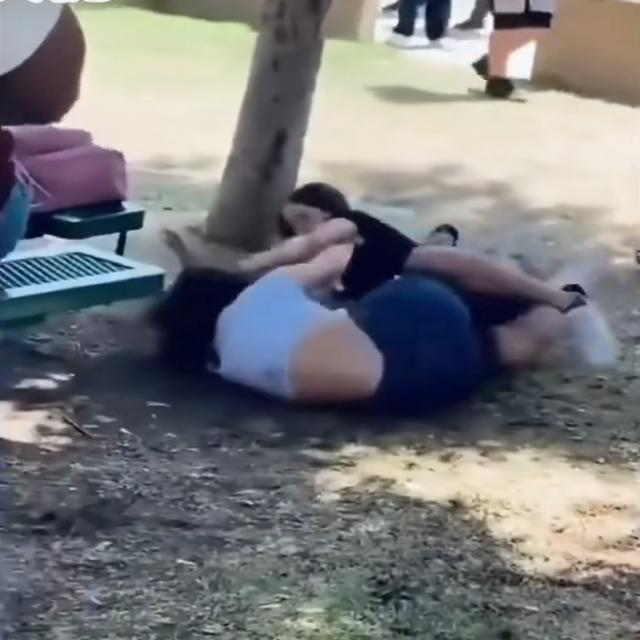fight: (171, 181, 596, 421)
